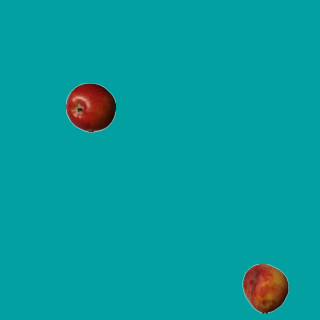Apple Braeburn: (65, 82, 115, 132)
Peach: (240, 263, 290, 313)
